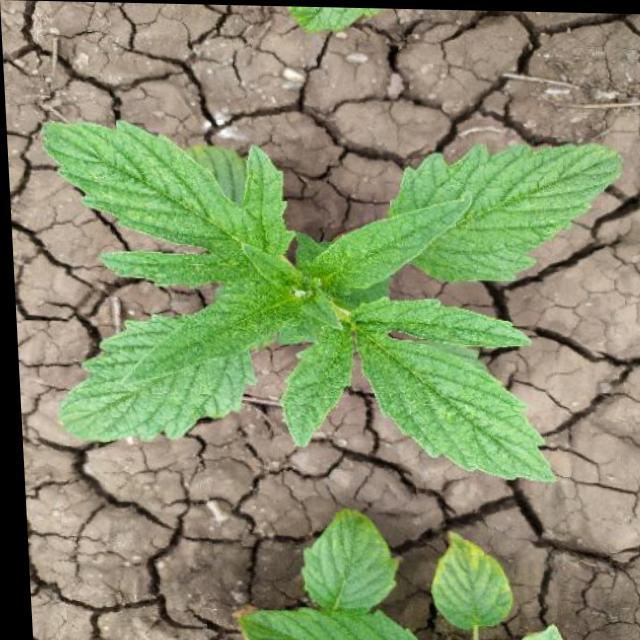crop: (186, 488, 586, 640)
weed: (30, 110, 634, 480)
